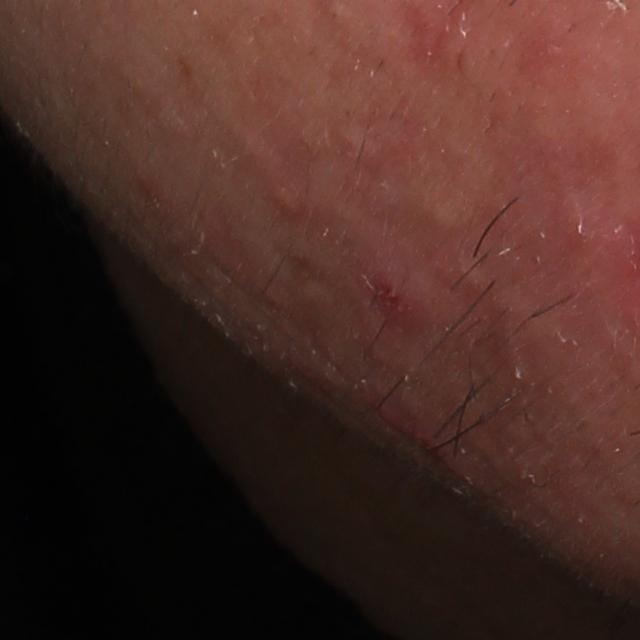papule: (357, 274, 432, 333)
